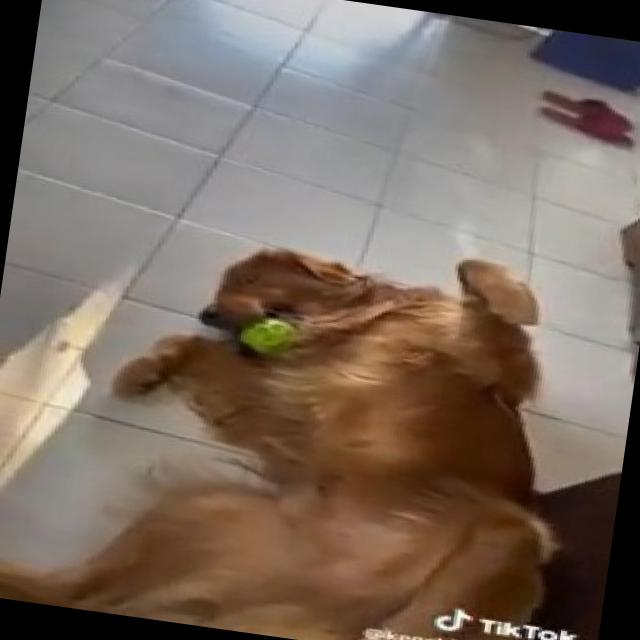dog: (133, 223, 569, 598)
